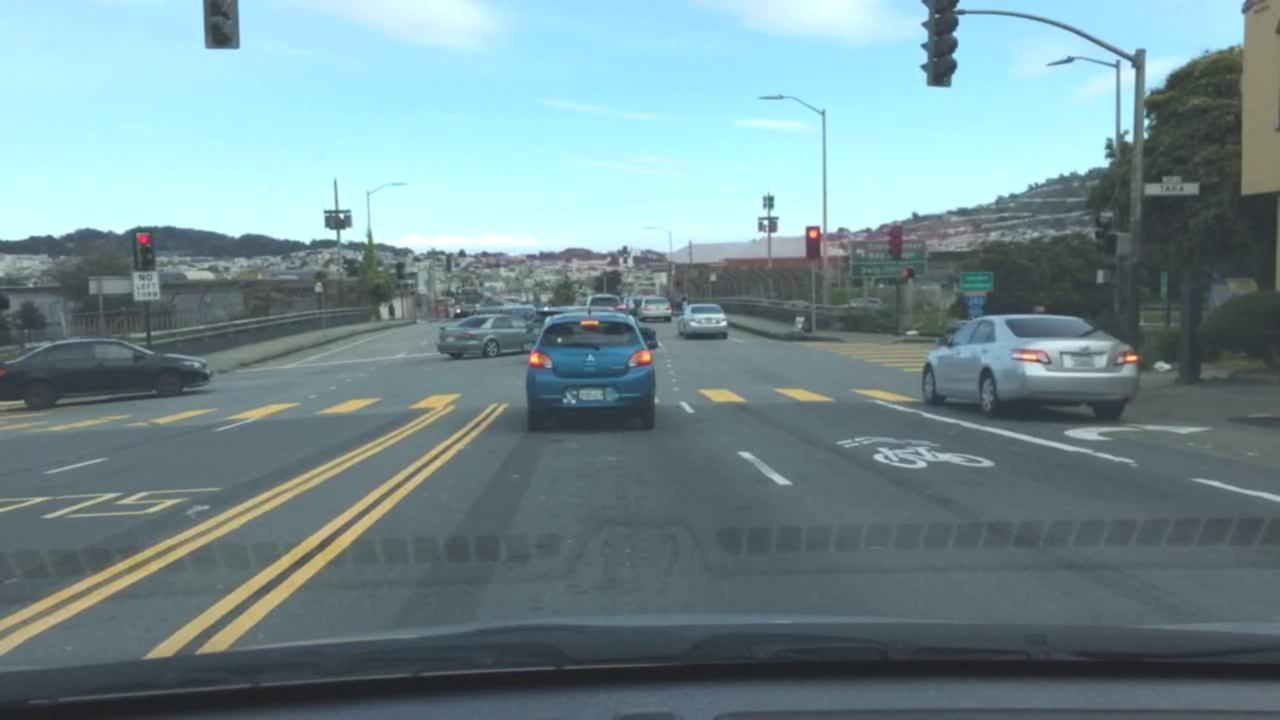Mitsubishi: (580, 349, 601, 364)
